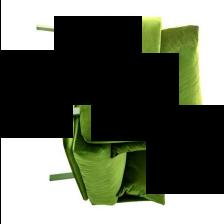green: (73, 17, 160, 144), (110, 62, 165, 158), (71, 116, 125, 206), (159, 25, 203, 126), (115, 126, 168, 205), (49, 116, 87, 201), (51, 31, 76, 108)
